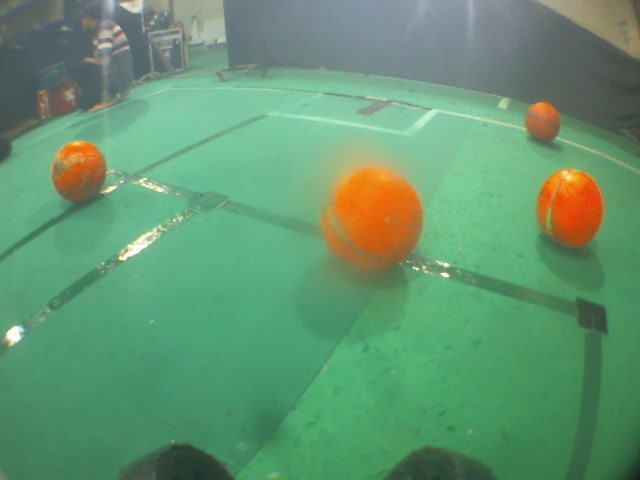ball: (313, 157, 429, 278), (533, 159, 607, 254), (47, 138, 112, 209), (522, 95, 565, 147)
